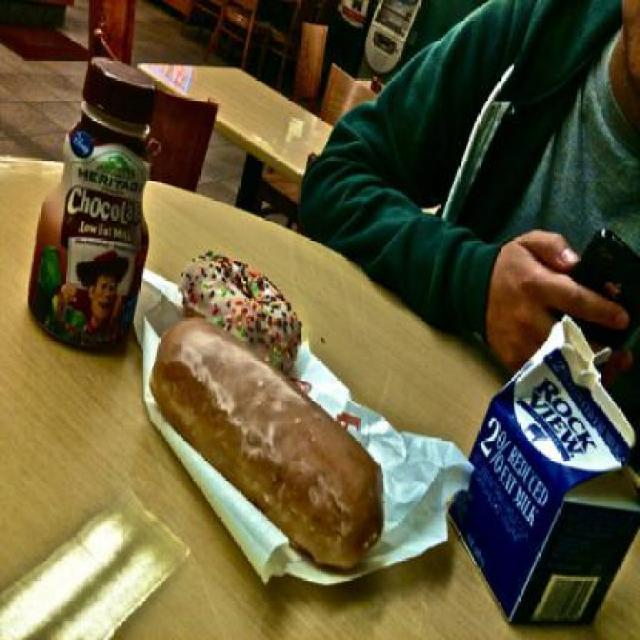Donuts: (168, 234, 386, 578)
